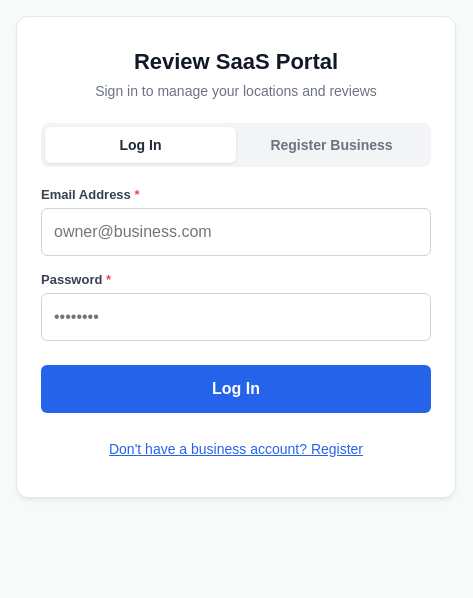
it: OwnerAuth Component Tests › 8. should display rate-limit guidance on 429 RATE_LIMITED
Type "target@example.com" into the field with test id "login-email-input" at (236, 232), box [41,208,431,256]
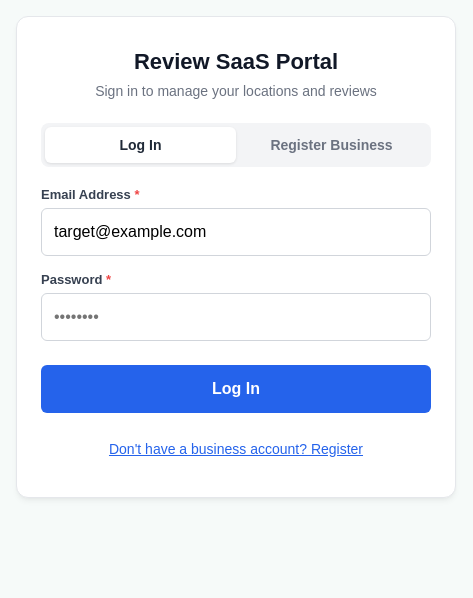
Type "GuessPassword1!" into the password field with test id "login-password-input" at (236, 317), box [41,293,431,341]
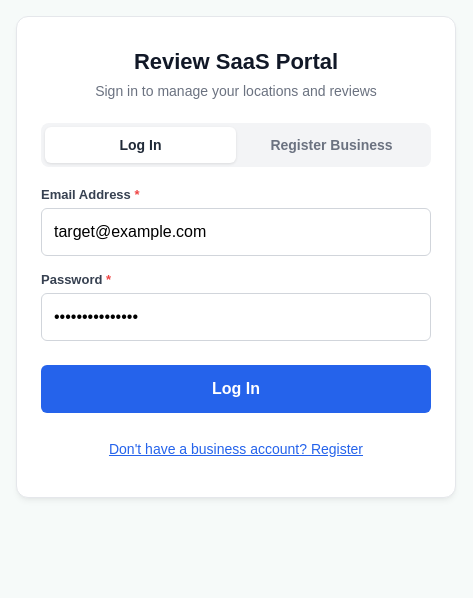
Click the button with test id "auth-submit-button" at (236, 389), box [41,365,431,413]
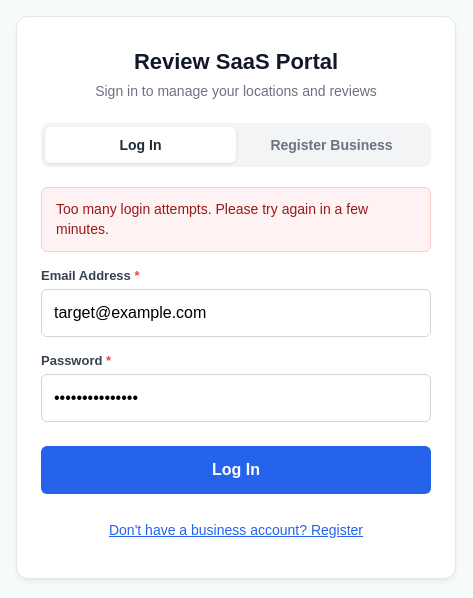
Check: the message "Too many login attempts. Please try again in a few minutes." is shown, box [41,187,431,252]
Check: the message with test id "auth-error-banner" shows "Too many login attempts. Please try again in a few minutes", box [56,201,368,237]
